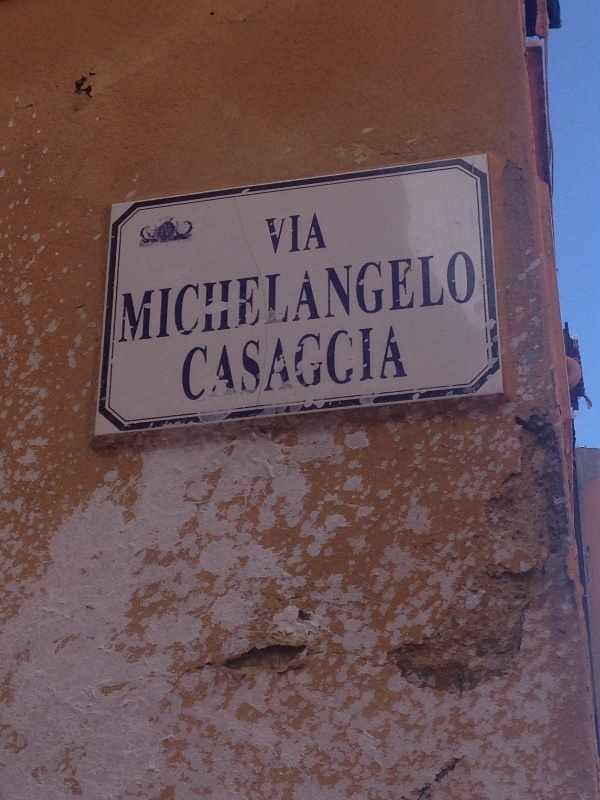text: (129, 241, 144, 350), (145, 241, 160, 350), (161, 241, 176, 350), (177, 241, 192, 350), (193, 241, 208, 350), (209, 241, 224, 350), (225, 241, 240, 350), (241, 241, 256, 350), (257, 241, 272, 350), (273, 241, 288, 350), (289, 241, 304, 350), (305, 241, 320, 350), (321, 241, 336, 350), (337, 241, 352, 350), (353, 241, 368, 350), (369, 241, 384, 350), (385, 241, 400, 350), (401, 241, 416, 350), (417, 241, 432, 350), (433, 241, 448, 350), (449, 241, 464, 350), (465, 241, 479, 350), (193, 321, 208, 405), (209, 321, 224, 405), (225, 321, 240, 405), (241, 321, 256, 405), (257, 321, 272, 405), (273, 321, 288, 405), (289, 321, 304, 405), (305, 321, 320, 405), (321, 321, 336, 405), (337, 321, 352, 405), (353, 321, 368, 405), (369, 321, 384, 405), (385, 321, 400, 405), (182, 321, 192, 405), (401, 321, 411, 405), (273, 212, 288, 255), (289, 212, 304, 255), (305, 212, 320, 255), (123, 241, 128, 350), (264, 212, 272, 255), (321, 212, 328, 255)
